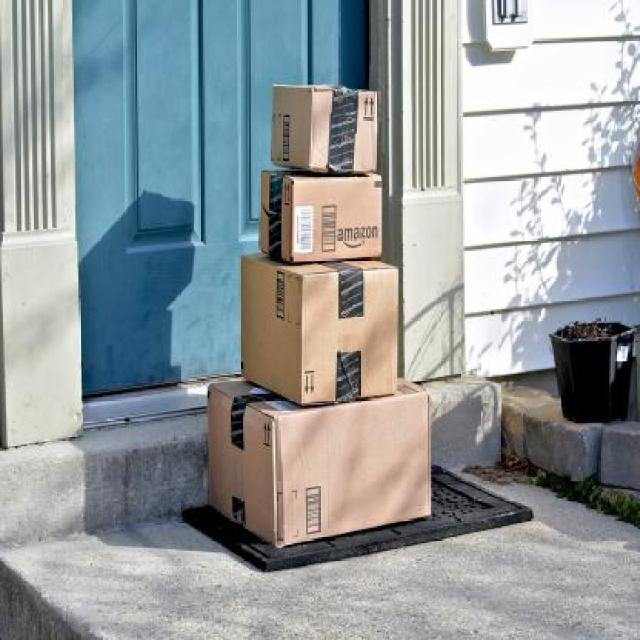cardboxes: (200, 369, 434, 556), (236, 247, 404, 402), (256, 162, 392, 264), (265, 77, 381, 177)
